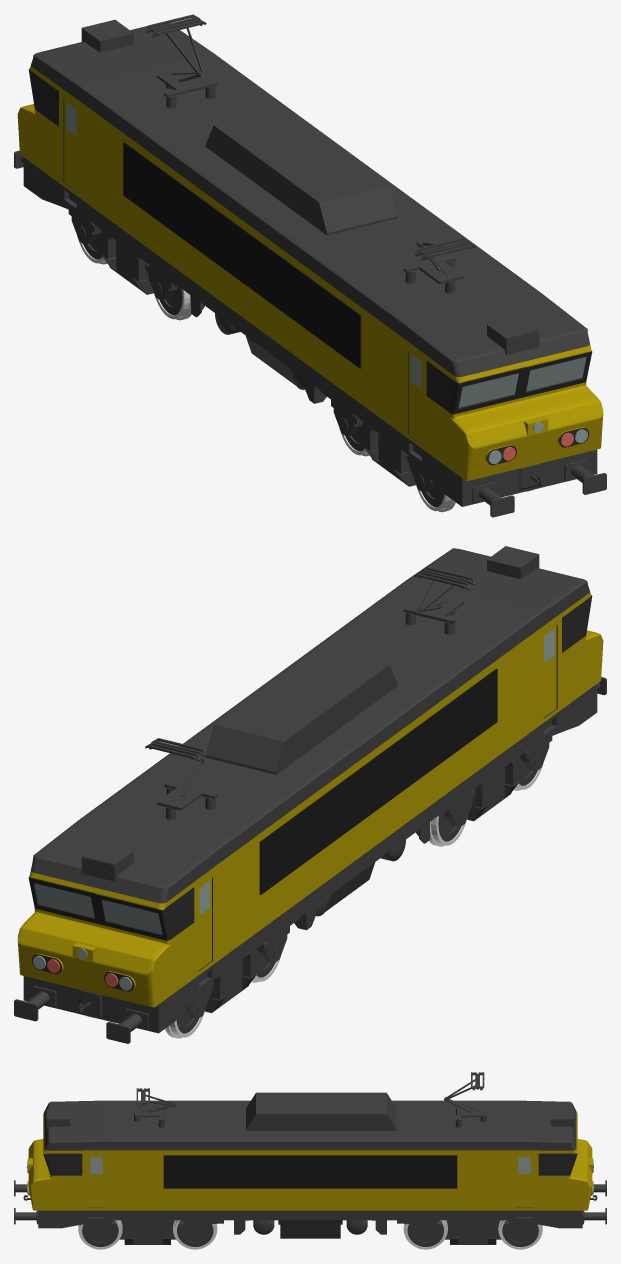
The picture shows the model from 3 angles, top to bottom: view 1: azimuth 30°, elevation 25°; view 2: azimuth 150°, elevation 25°; view 3: azimuth 270°, elevation 25°; orthographic projection. The views are drawn at different scales.
Visible parts, largest first — view 1: NS1600; view 2: NS1600; view 3: NS1600.
Boxes of the visible parts, x1,y1,x2,y2 form: NS1600: (14, 14, 606, 517); NS1600: (14, 546, 606, 1043); NS1600: (14, 1072, 606, 1249).
Size of the model in its own units: 608 by 1068 by 3660.
